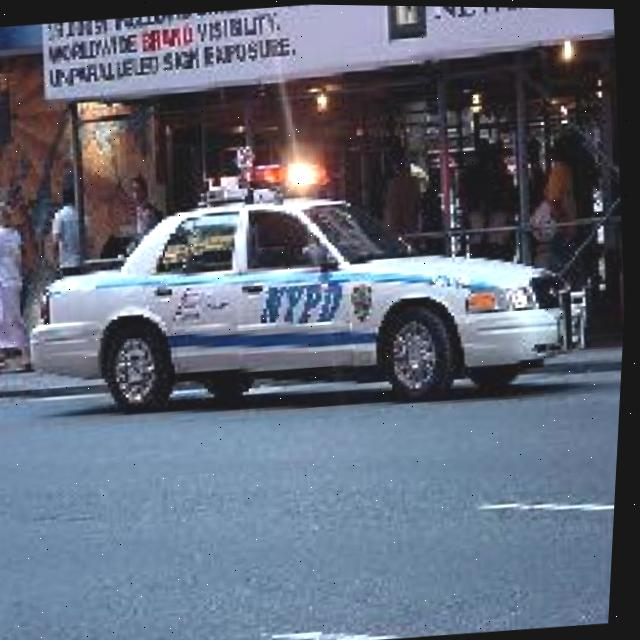emergency: (10, 140, 602, 437)
